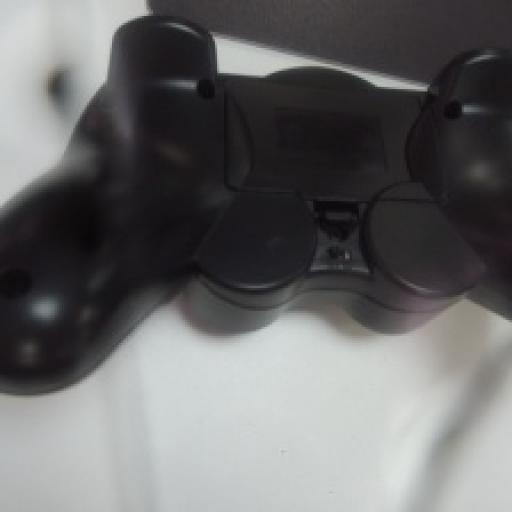game pad: (0, 18, 510, 391)
